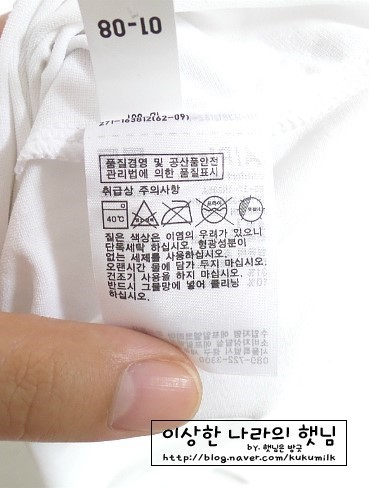KR_hang_dry_in_shade: (237, 194, 266, 224)
KR_no_chlorine_bleach: (130, 199, 160, 230)
KR_no_dry_clean: (197, 194, 230, 226)
KR_no_iron: (160, 198, 194, 228)
KR_wash_40: (98, 198, 130, 231)
